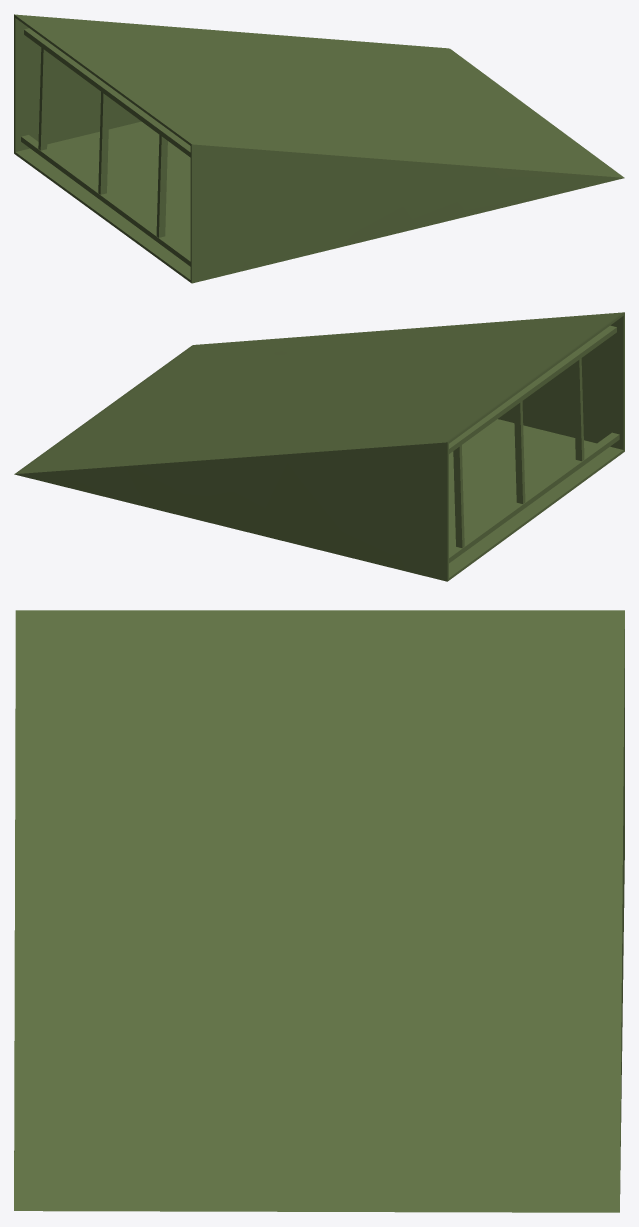
Rendered from rampa.obj.
The picture shows the model from 3 angles, top to bottom: view 1: azimuth 30°, elevation 25°; view 2: azimuth 150°, elevation 25°; view 3: azimuth 270°, elevation 25°; orthographic projection. The views are drawn at different scales.
Visible parts, largest first — view 1: Skate_Ramp_Fun_Box_07_; view 2: Skate_Ramp_Fun_Box_07_; view 3: Skate_Ramp_Fun_Box_07_.
Boxes of the visible parts, <box> form: Skate_Ramp_Fun_Box_07_: <box>14,14,624,283</box>; Skate_Ramp_Fun_Box_07_: <box>14,312,624,581</box>; Skate_Ramp_Fun_Box_07_: <box>14,610,624,1212</box>.
Size of the model in its own units: 42.2 by 12.93 by 29.95.
